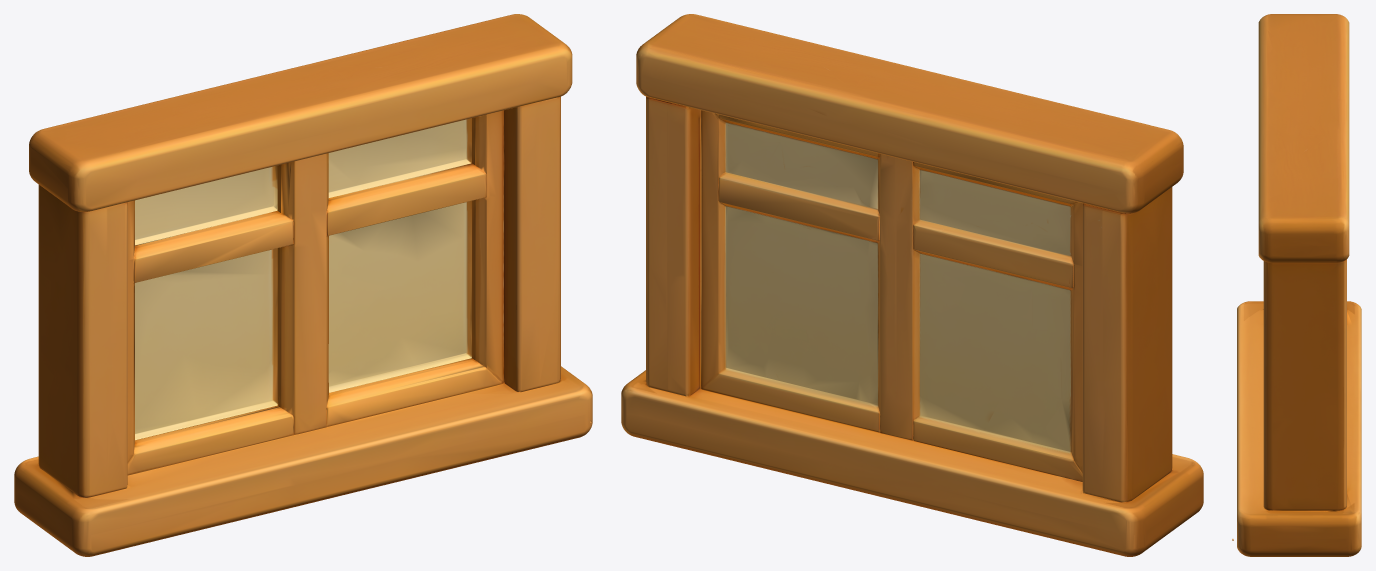
File: window.glb
The picture shows the model from 3 angles, left to right: view 1: azimuth 30°, elevation 25°; view 2: azimuth 150°, elevation 25°; view 3: azimuth 270°, elevation 25°; orthographic projection. The views are drawn at different scales.
Visible parts, largest first — view 1: 窗户_用户原件静态总成; view 2: 窗户_用户原件静态总成; view 3: 窗户_用户原件静态总成.
Part boxes in pixels (bbox=[...]): 窗户_用户原件静态总成: bbox=[14, 14, 592, 556]; 窗户_用户原件静态总成: bbox=[621, 14, 1203, 556]; 窗户_用户原件静态总成: bbox=[1232, 14, 1361, 556].
Bounding box in the file's own units: 1.05 × 0.7436 × 0.2606.
1 material, 1 textured.
